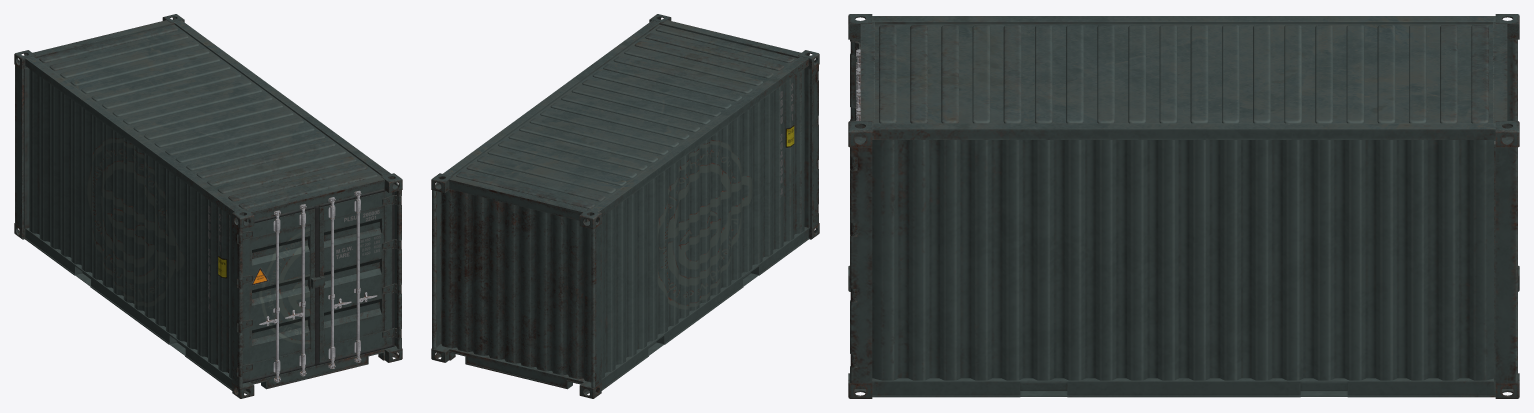
Rendered from container-20ft.glb.
3 views of the same model, side by side, from view 1: azimuth 30°, elevation 25°; view 2: azimuth 150°, elevation 25°; view 3: azimuth 270°, elevation 25° (orthographic). The views are drawn at different scales.
Visible parts, largest first — view 1: container; view 2: container; view 3: container.
Boxes of the visible parts, left/top/right/bottom form: container: left=14, top=14, right=402, bottom=398; container: left=431, top=14, right=819, bottom=398; container: left=848, top=14, right=1519, bottom=398.
Bounding box in the file's own units: 2.54 × 2.7 × 6.11.
Materials: 1 (1 with a texture image).
